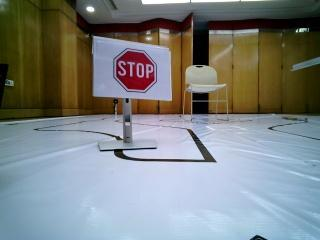stop: (87, 36, 175, 103)
